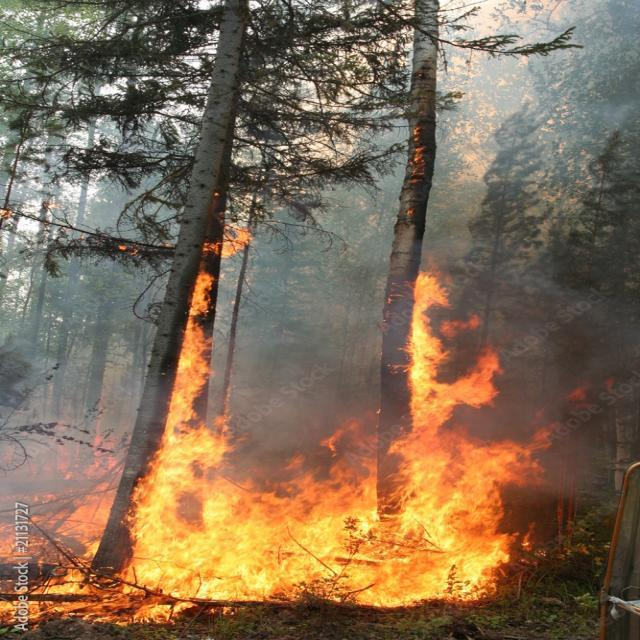Fire: (0, 198, 595, 626)
